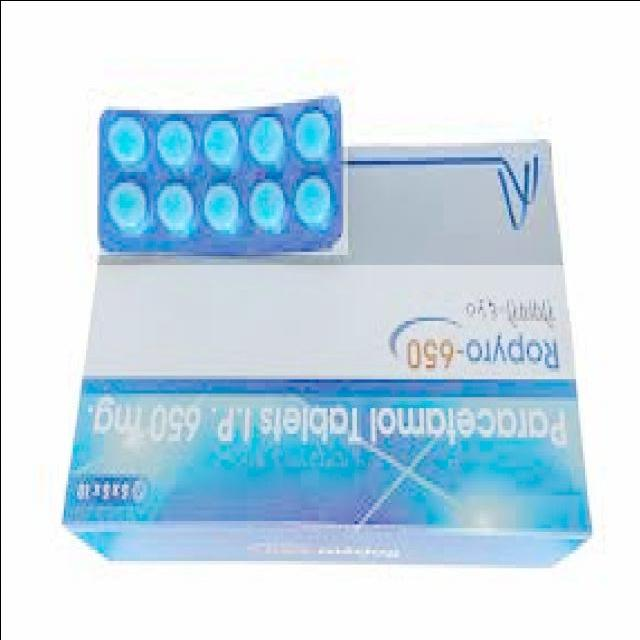authentic: (50, 264, 601, 600), (88, 94, 347, 254)
